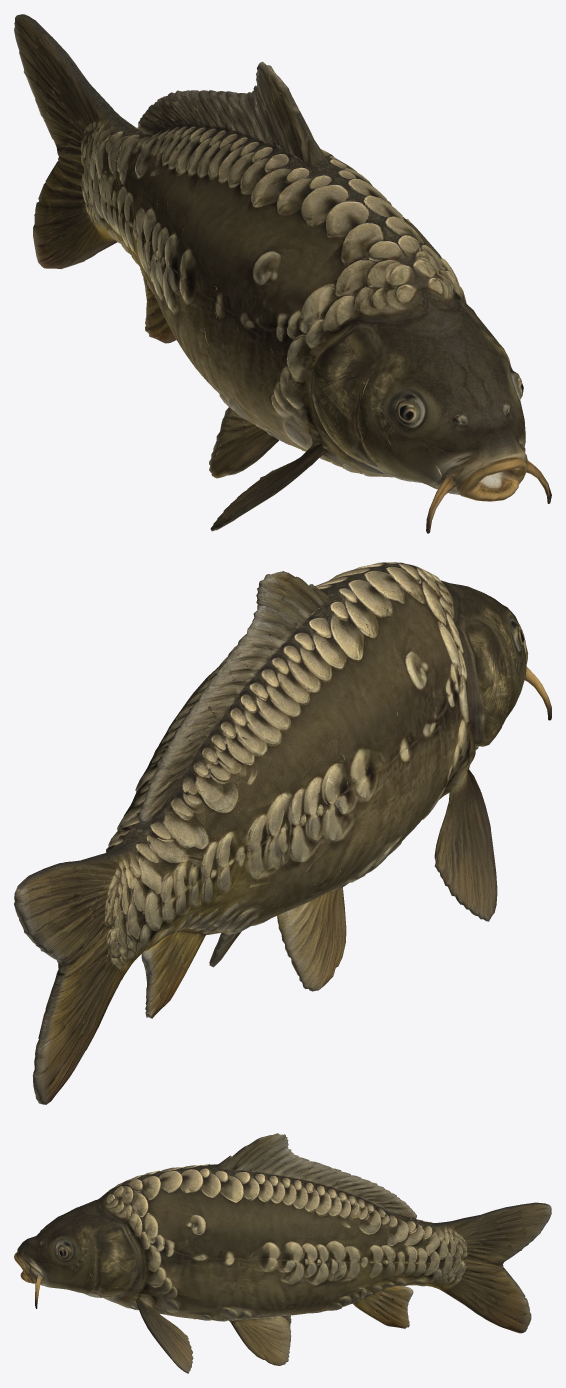
The model's file is karp_lustrzen.glb.
3 views of the same model, one above another, from view 1: azimuth 30°, elevation 25°; view 2: azimuth 150°, elevation 25°; view 3: azimuth 270°, elevation 25° (orthographic). The views are drawn at different scales.
Visible parts, largest first — view 1: Mesh_0; view 2: Mesh_0; view 3: Mesh_0.
Part boxes in pixels (x1,y1,x2,y2): Mesh_0: [14, 14, 551, 533]; Mesh_0: [14, 562, 551, 1104]; Mesh_0: [14, 1133, 551, 1373].
Size of the model in its own units: 0.6238 by 0.8543 by 1.9.
Materials: 1 (1 with a texture image).
